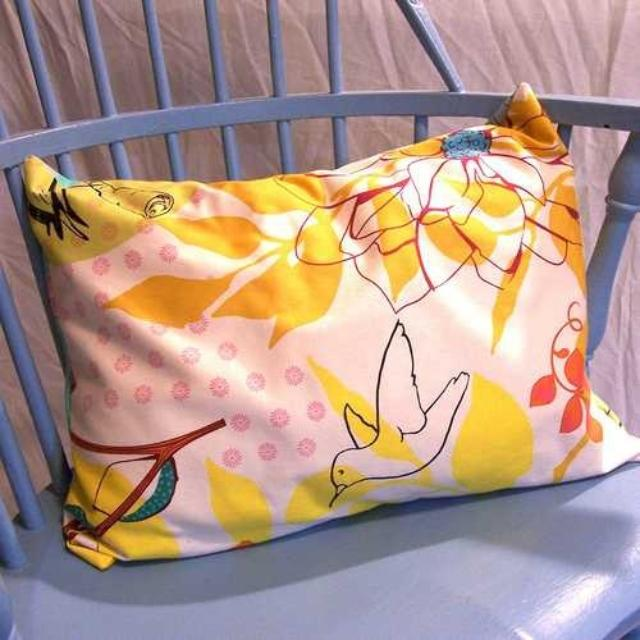pillow: (18, 81, 638, 571)
